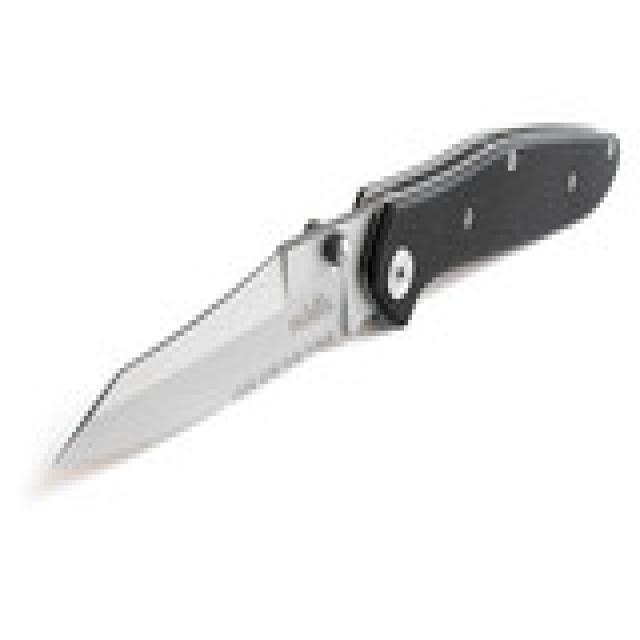Knife: (20, 105, 622, 504)
